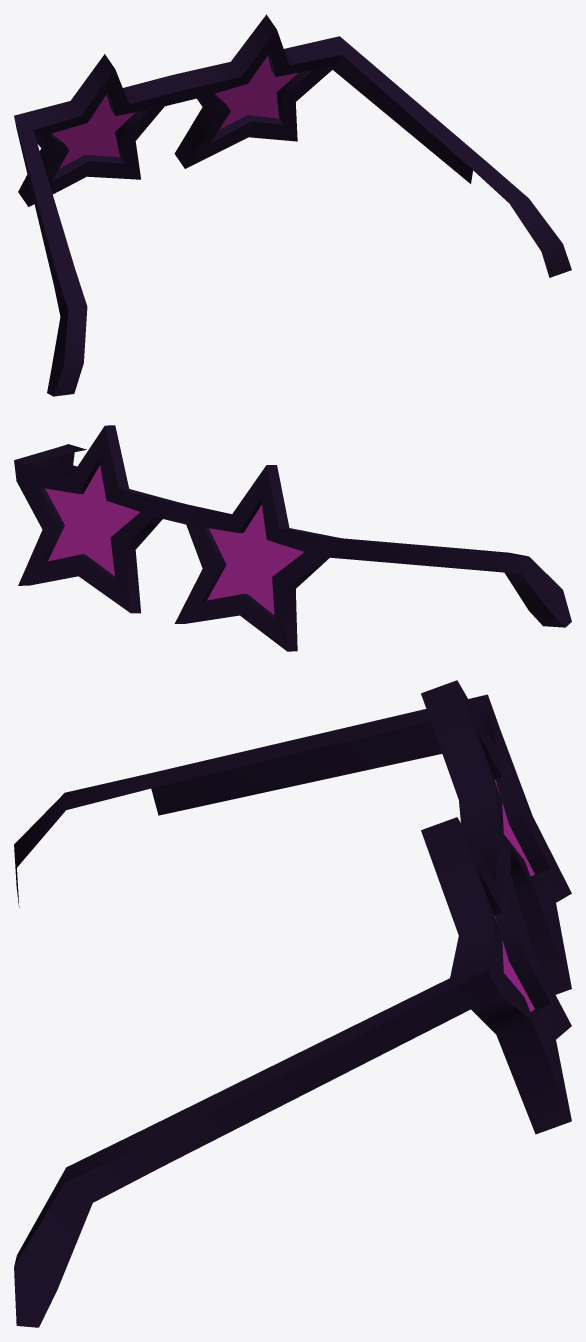
Rendered from hat_glassesStar.glb.
The picture shows the model from 3 angles, top to bottom: view 1: azimuth 30°, elevation 25°; view 2: azimuth 150°, elevation 25°; view 3: azimuth 270°, elevation 25°; orthographic projection. The views are drawn at different scales.
Parts seen in each view (by area): view 1: hat_glassesStar; view 2: hat_glassesStar; view 3: hat_glassesStar.
Boxes of the visible parts, x1,y1,x2,y2 form: hat_glassesStar: [14, 14, 571, 396]; hat_glassesStar: [14, 425, 571, 651]; hat_glassesStar: [14, 680, 571, 1327].
Size of the model in its own units: 0.499 by 0.1937 by 0.2681.
